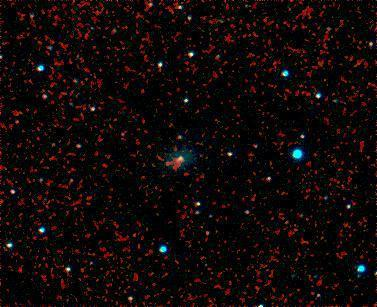star: (151, 148, 181, 178)
